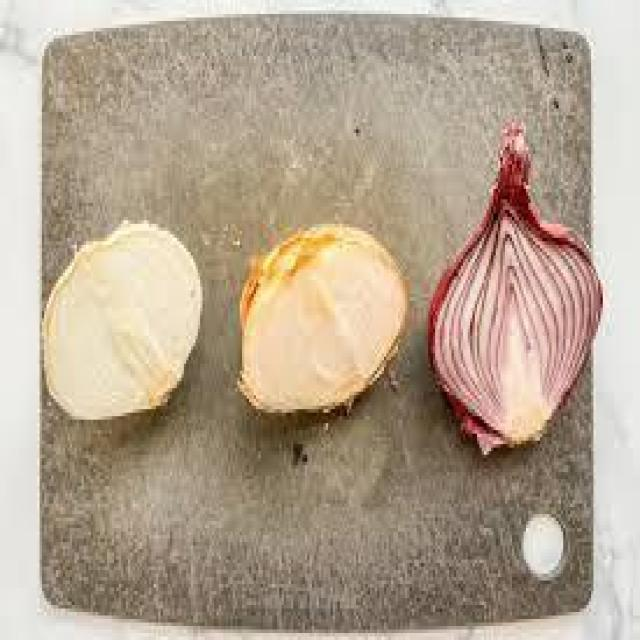Onion: (427, 128, 604, 456), (46, 215, 202, 425), (238, 224, 411, 413)
